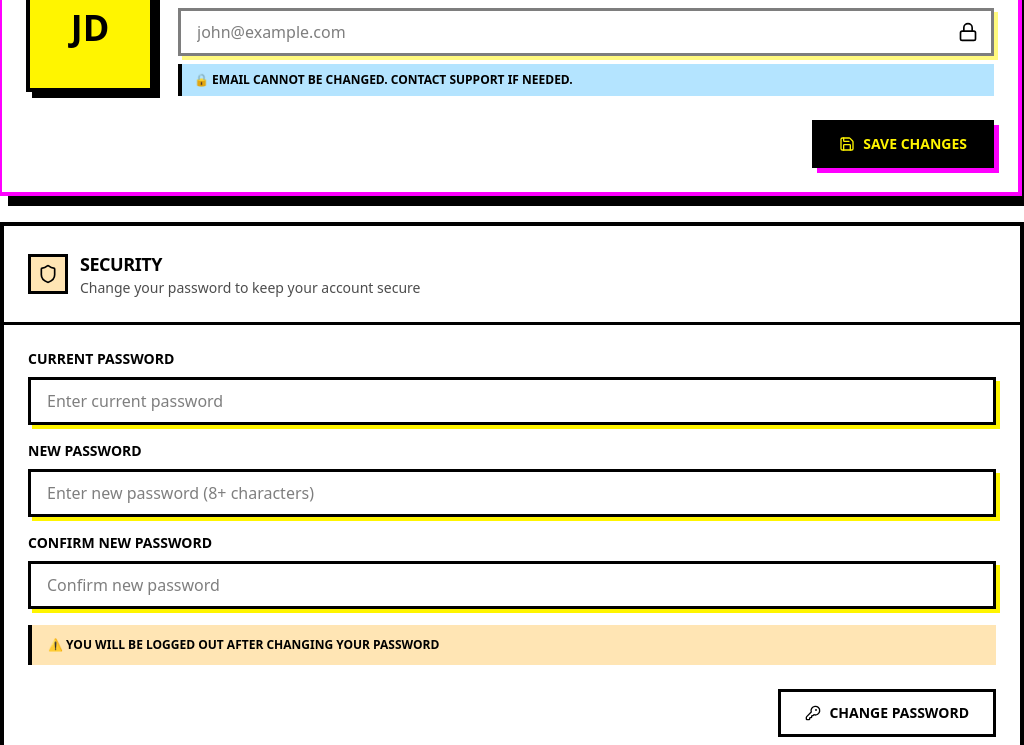
Scenario: Profile - Functional Tests › Password Change › should validate and reject empty password fields
(page scrolled)
What coordinates should you click on to do the following:
click the button "Change Password"
I would click on:
 (887, 713)
Its box is [778,689,996,737].
(page scrolled)
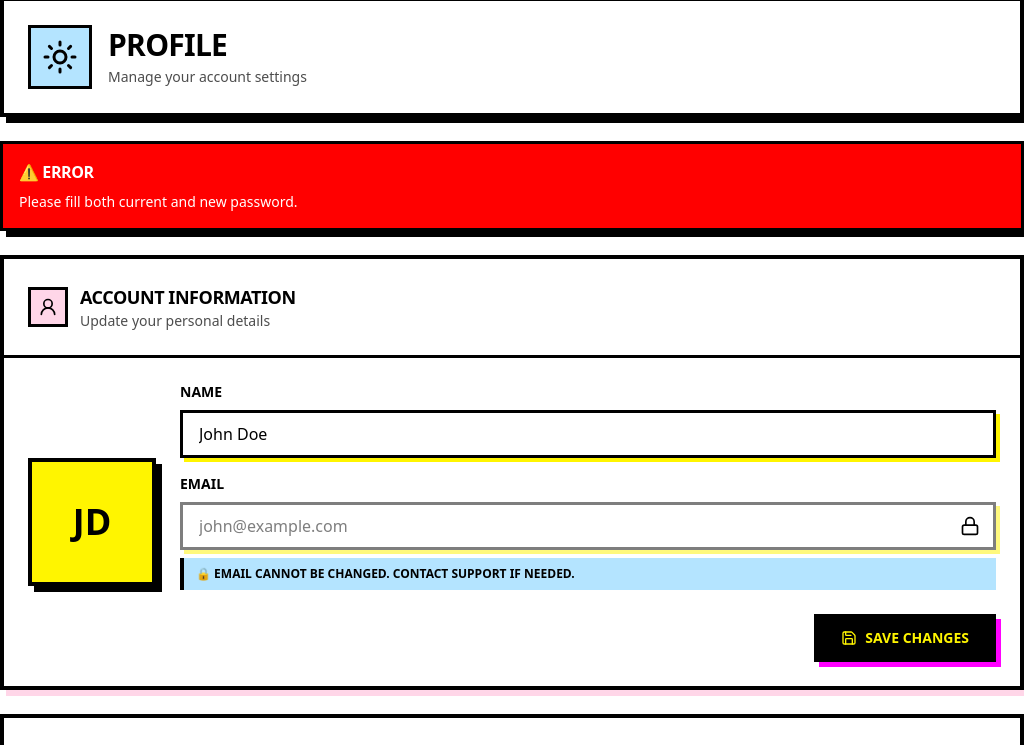
Result: the text "Please fill both current and new password." is shown at [19,192,298,211]
